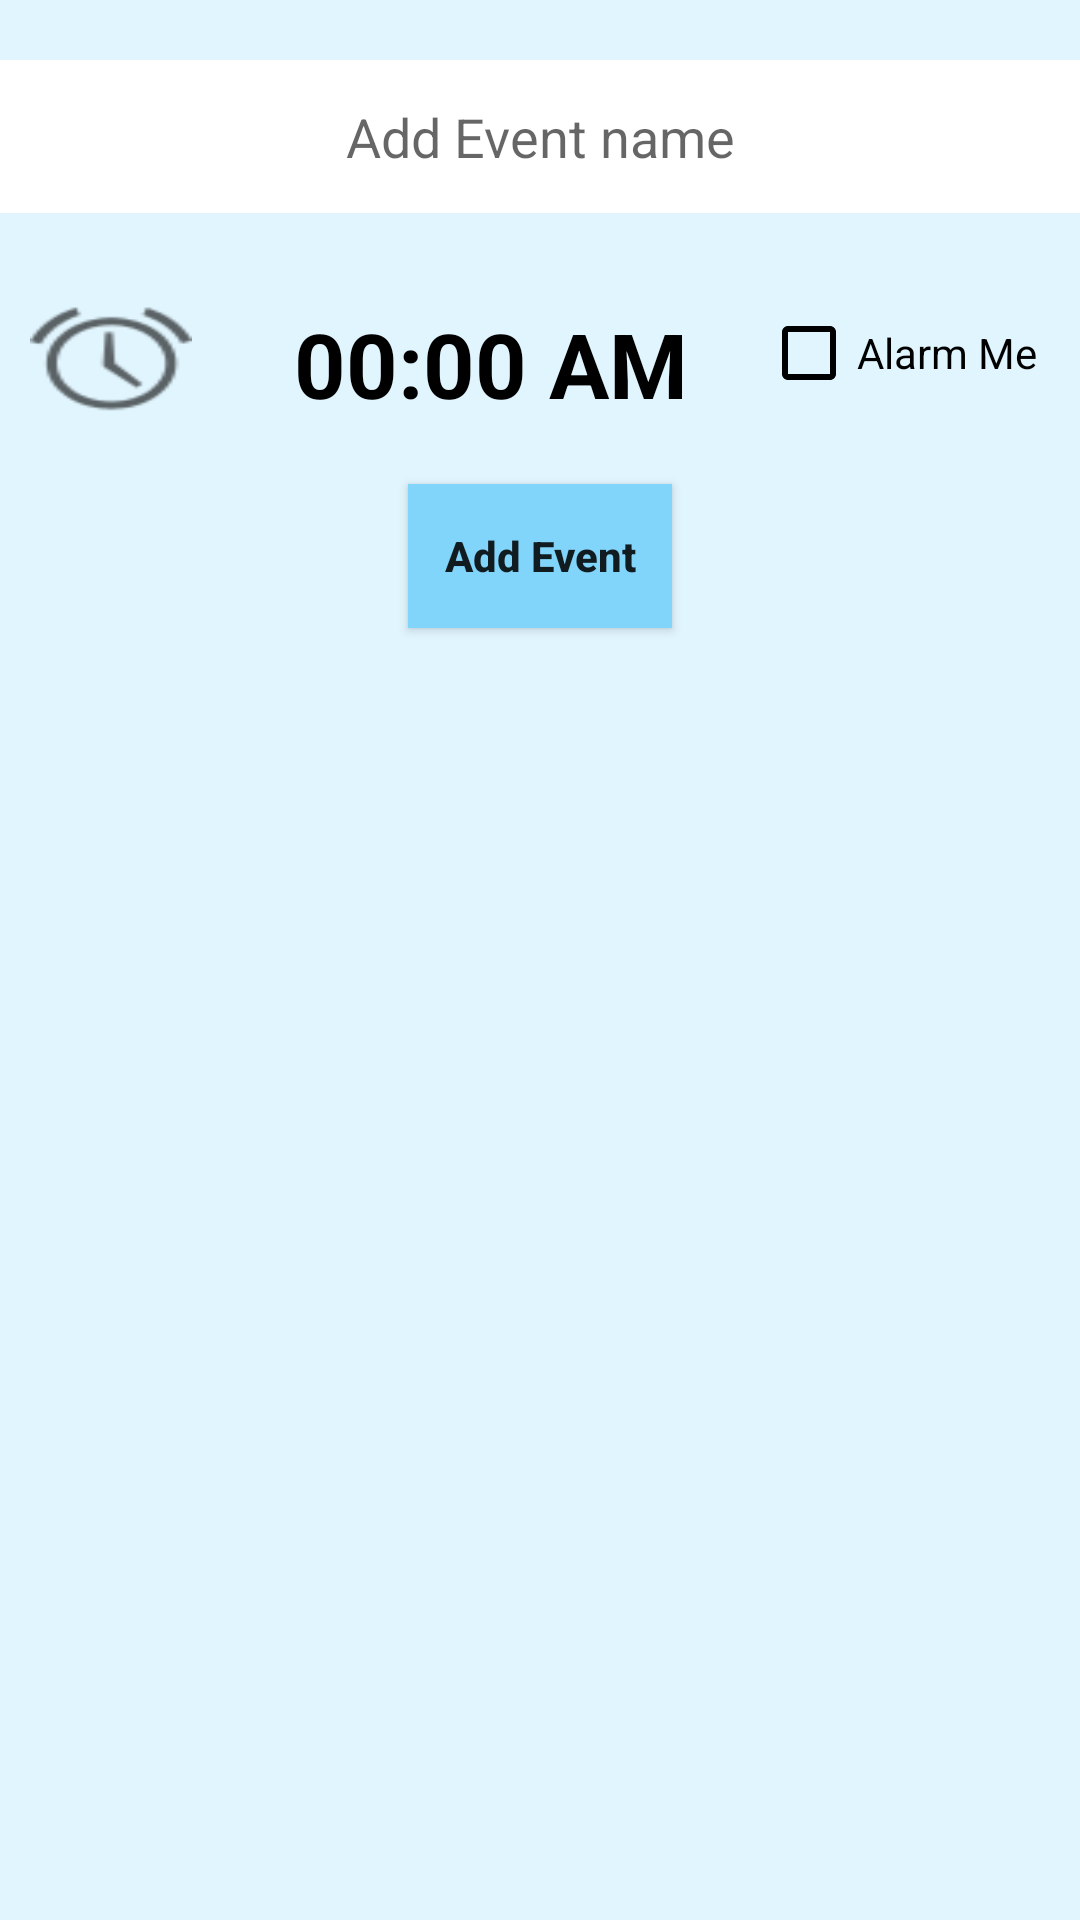

Icons on this 1080×1920 Android screen, each with the point to tap as (x,y):
lock idle alarm: (111,358)
